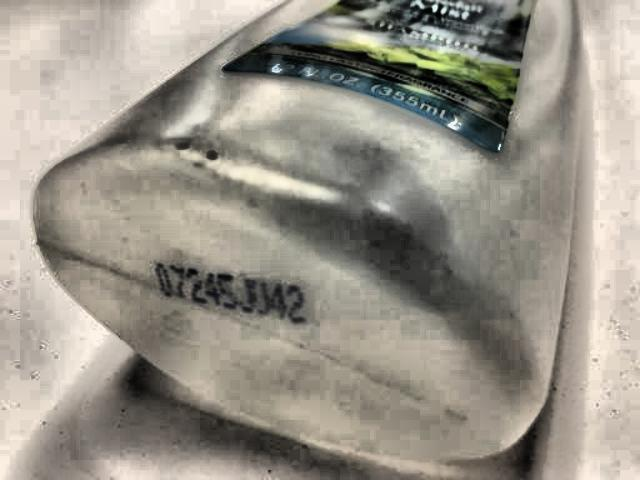Plastic: (23, 0, 612, 480)
